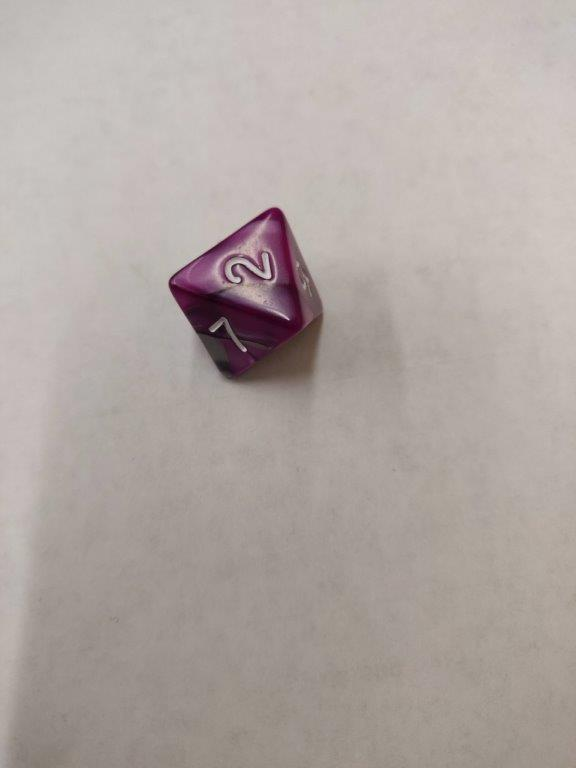d8-2: (167, 207, 323, 383)
